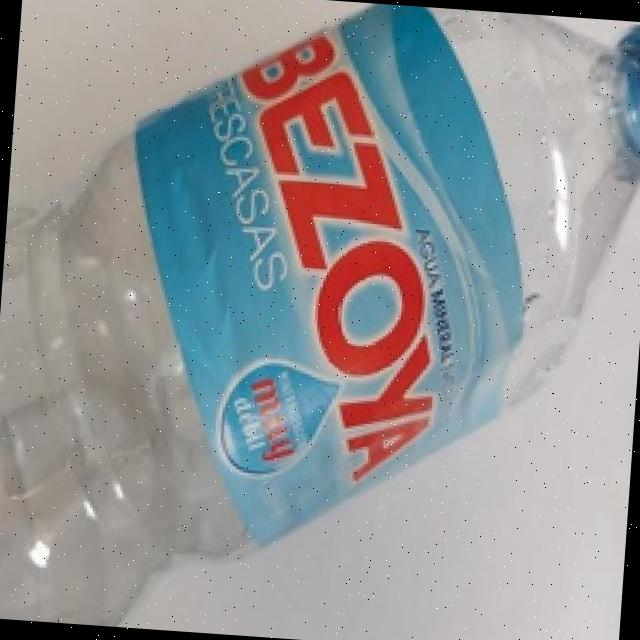bottle: (0, 0, 640, 640)
label: (89, 11, 558, 566)
